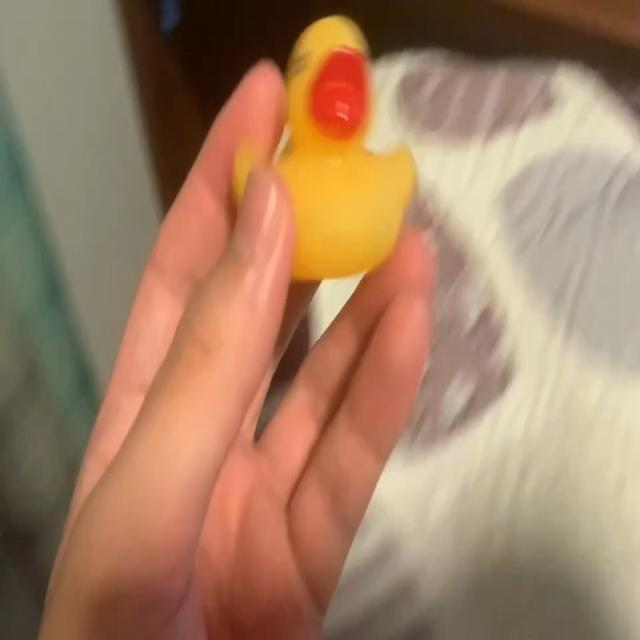rubber-duck: (276, 15, 413, 279)
